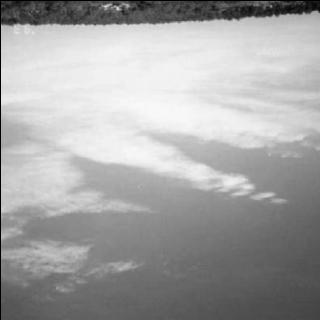Cirrostratus: (0, 25, 320, 292)
